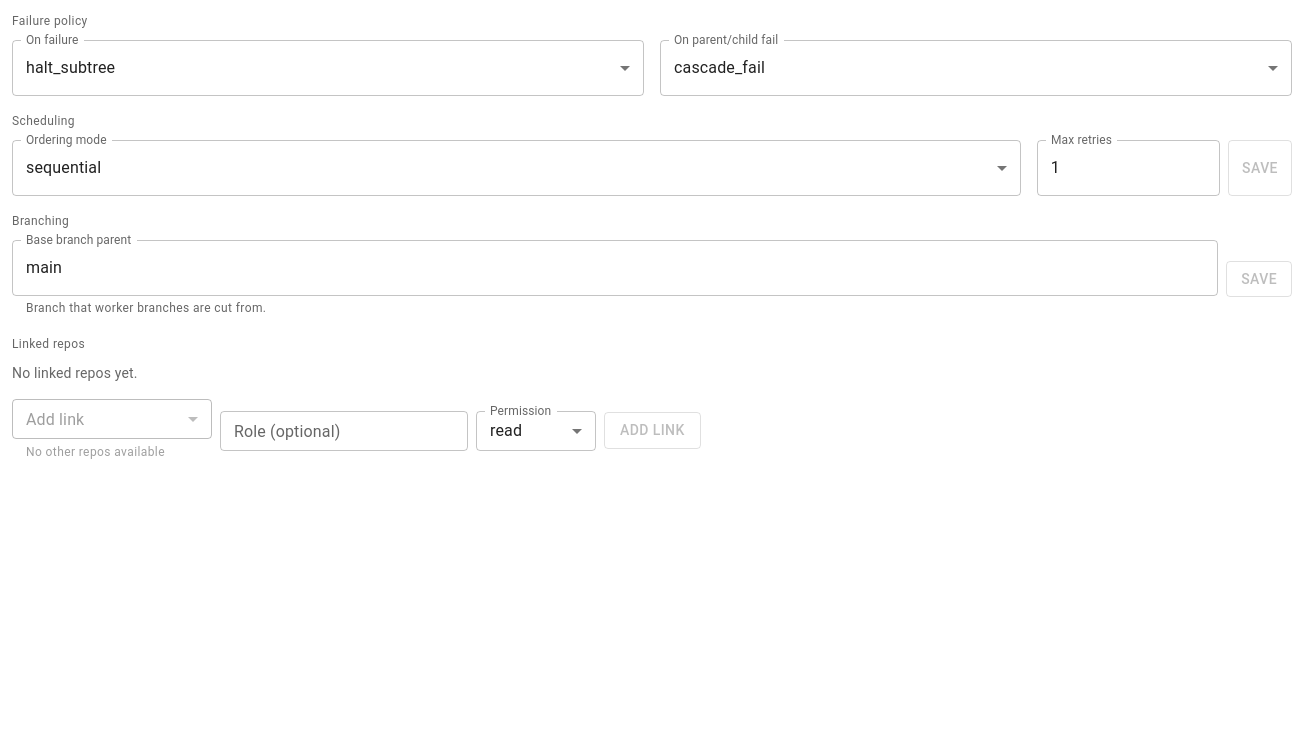
RepoSettingsPanel › rejects negative max_retries with an inline error and does not PATCH
Replace the text in the field labelled "Max retries" with "-3". click: (1128, 168)
box: x1=1037 y1=140 x2=1220 y2=196
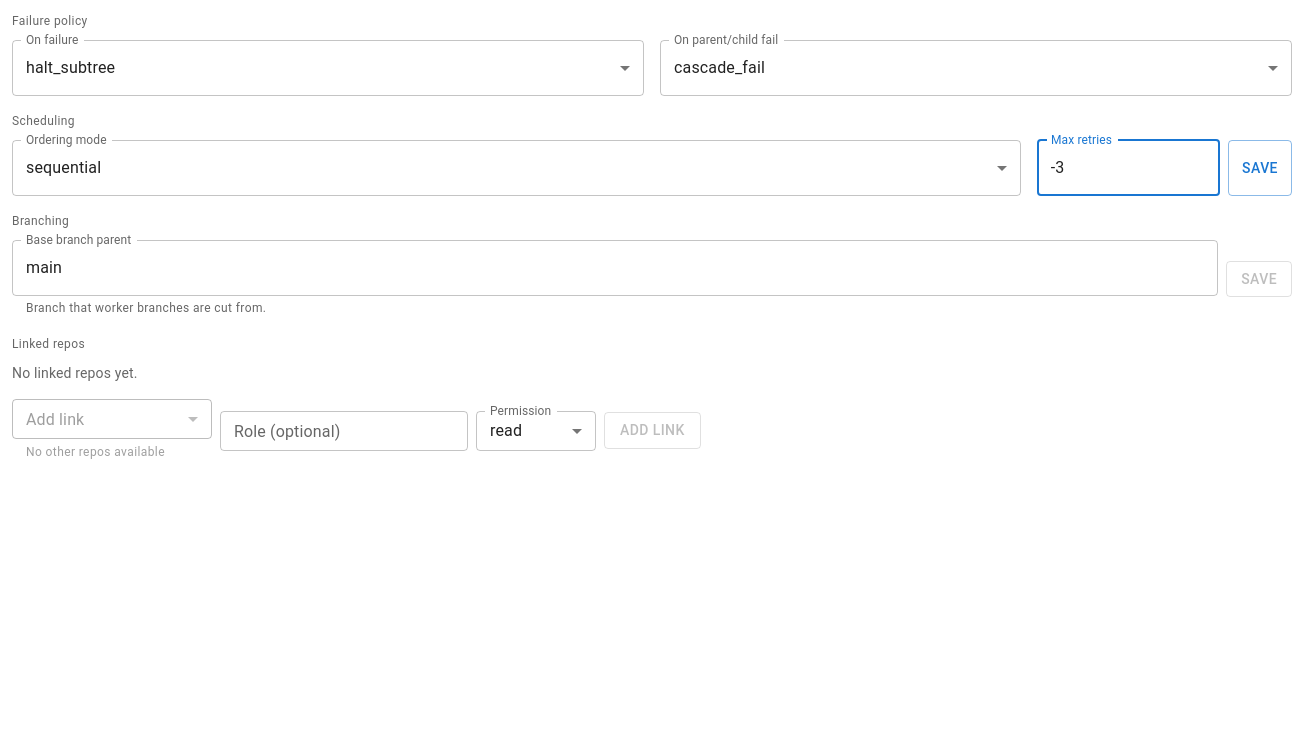
Click the button with aria-label "save max retries". click: (1260, 168)
box: x1=1228 y1=140 x2=1292 y2=196
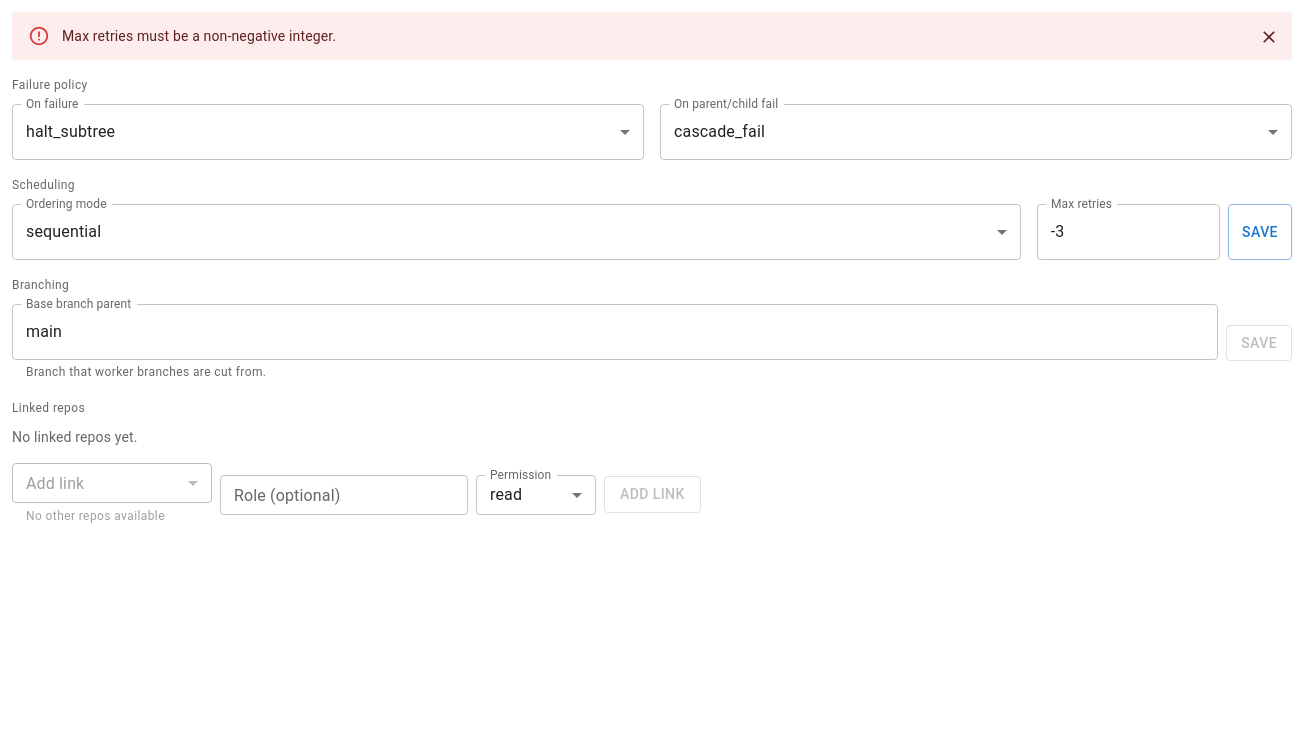
Expected: the text "Max retries must be a non-negative integer." is shown, x1=62 y1=28 x2=336 y2=44
